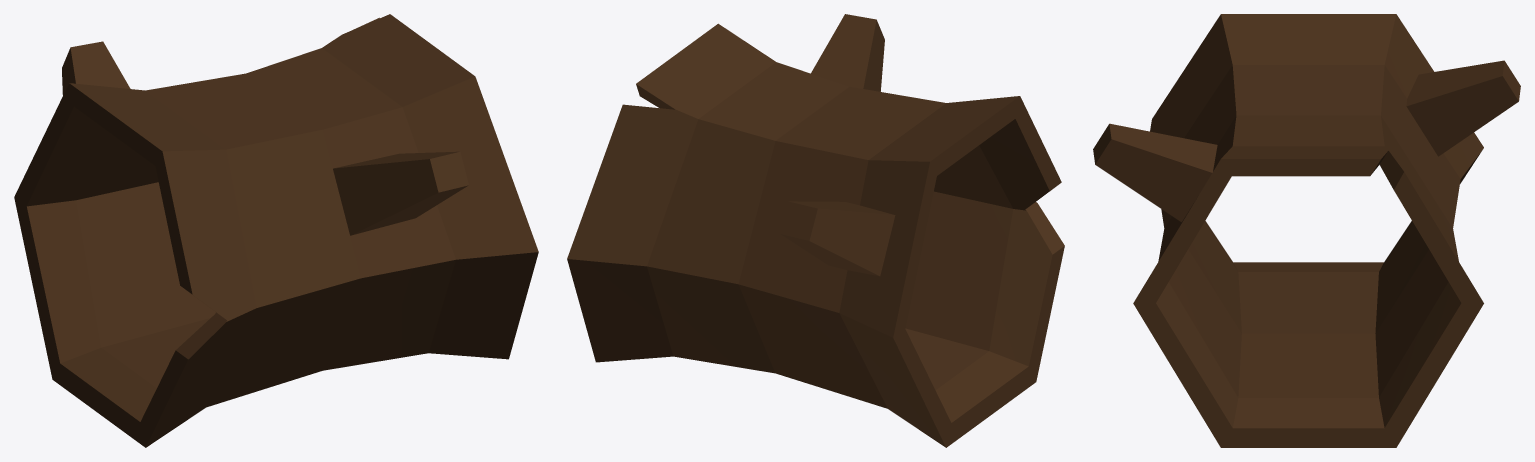
The model's file is Hollow_Trunk.fbx.
3 views of the same model, side by side, from view 1: azimuth 30°, elevation 25°; view 2: azimuth 150°, elevation 25°; view 3: azimuth 270°, elevation 25° (orthographic). The views are drawn at different scales.
Visible parts, largest first — view 1: Hollow_Trunk; view 2: Hollow_Trunk; view 3: Hollow_Trunk.
Part boxes in pixels (<box>): Hollow_Trunk: <box>14,14,538,447</box>; Hollow_Trunk: <box>567,14,1064,447</box>; Hollow_Trunk: <box>1093,14,1520,447</box>.
Size of the model in its own units: 9.2 by 7.08 by 9.98.
